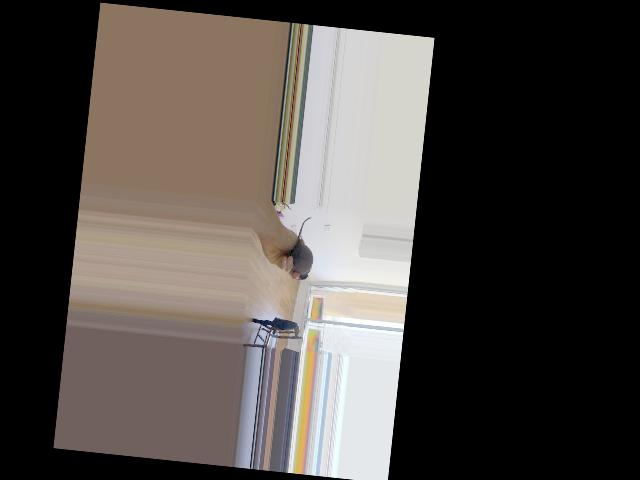beet: (289, 216, 317, 282)
